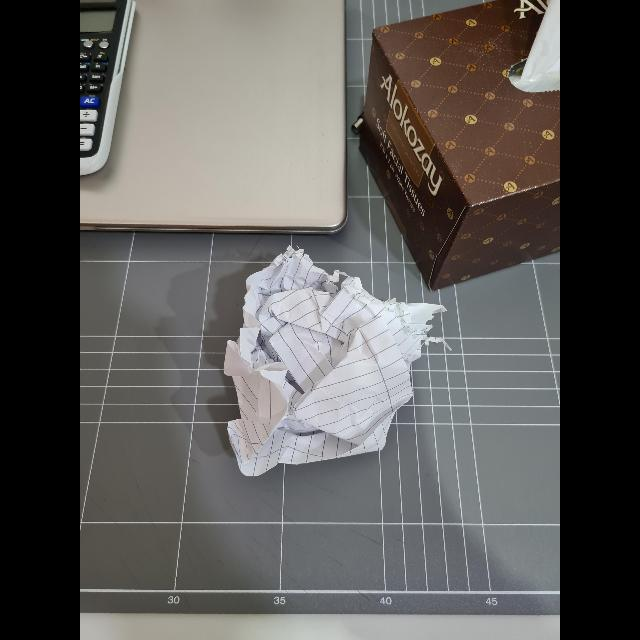scrap_paper: (225, 252, 468, 476)
